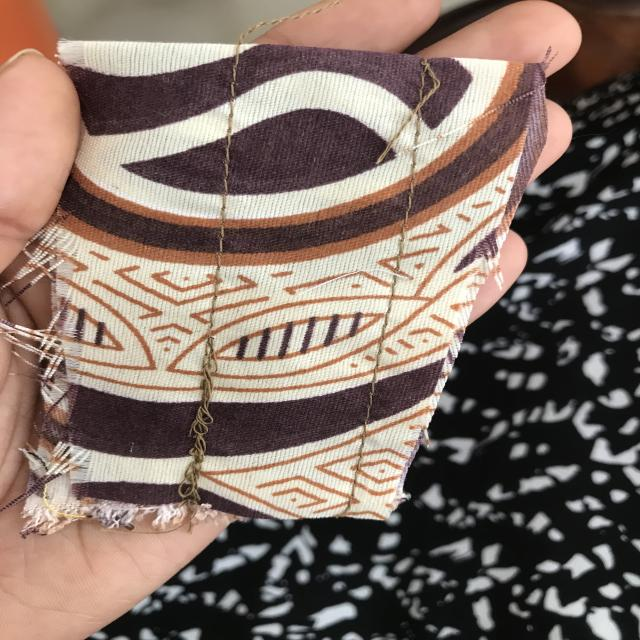good: (197, 104, 255, 252), (368, 305, 406, 387), (400, 172, 432, 252)
